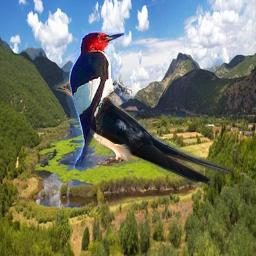Swallow: (52, 69, 236, 186)
Woodpecker: (57, 22, 133, 169)
